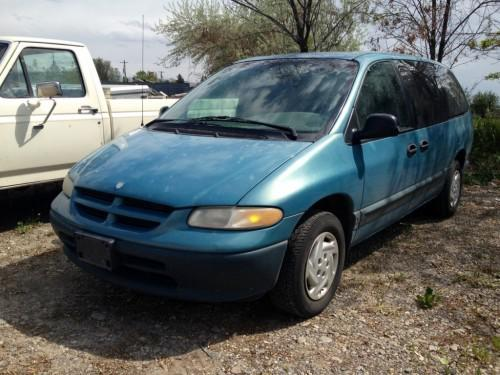Car: (38, 37, 494, 336)
